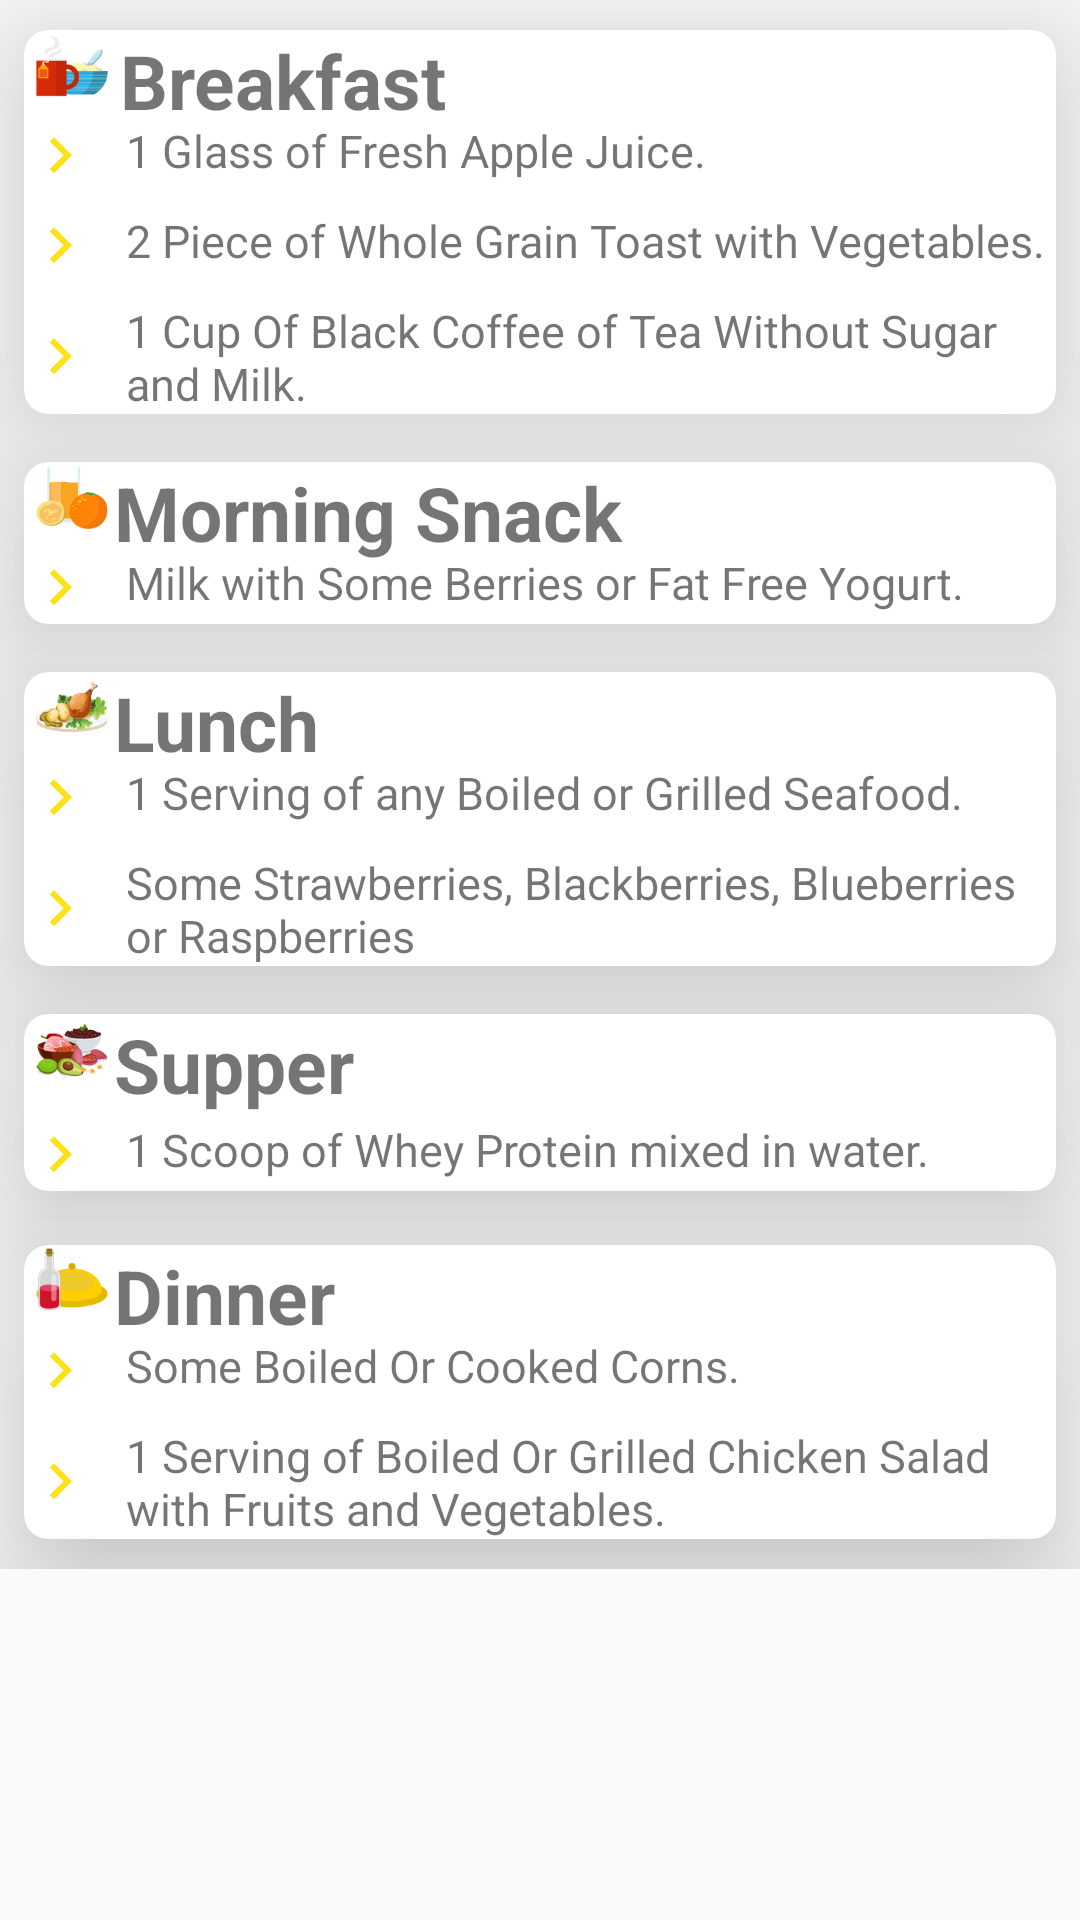

Screen size 1080w x 1920h. Icon name, then its center in pixels as [x,y]:
snacks: [72,498]
